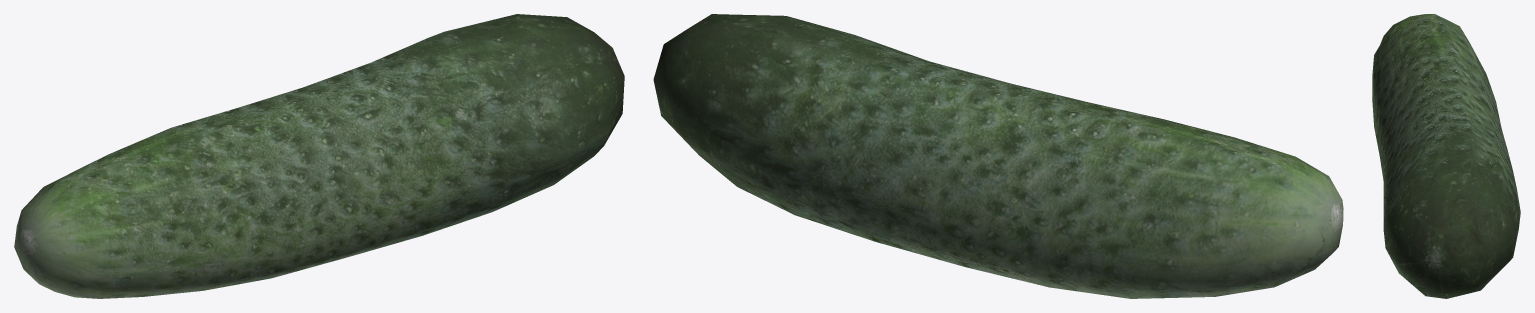
File: Огурец 1 Вариант.dae
3 renders of one model, left to right at view 1: azimuth 30°, elevation 25°; view 2: azimuth 150°, elevation 25°; view 3: azimuth 270°, elevation 25°, orthographic. The views are drawn at different scales.
Parts seen in each view (by area): view 1: SM_foo_cucumber_01_a.001; view 2: SM_foo_cucumber_01_a.001; view 3: SM_foo_cucumber_01_a.001.
Part boxes in pixels (x1=…): SM_foo_cucumber_01_a.001: x1=14, y1=14, x2=624, y2=298; SM_foo_cucumber_01_a.001: x1=653, y1=14, x2=1343, y2=298; SM_foo_cucumber_01_a.001: x1=1372, y1=14, x2=1520, y2=298.
Bounding box in the file's own units: 18.38 × 4.88 × 4.94.
